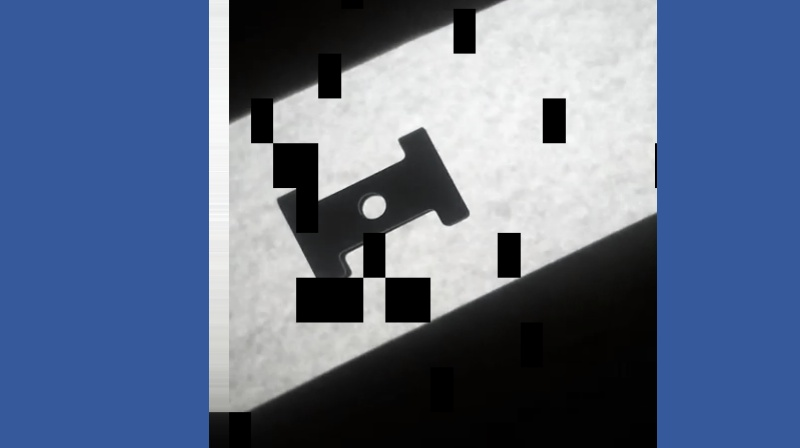O002: (274, 123, 470, 288)
